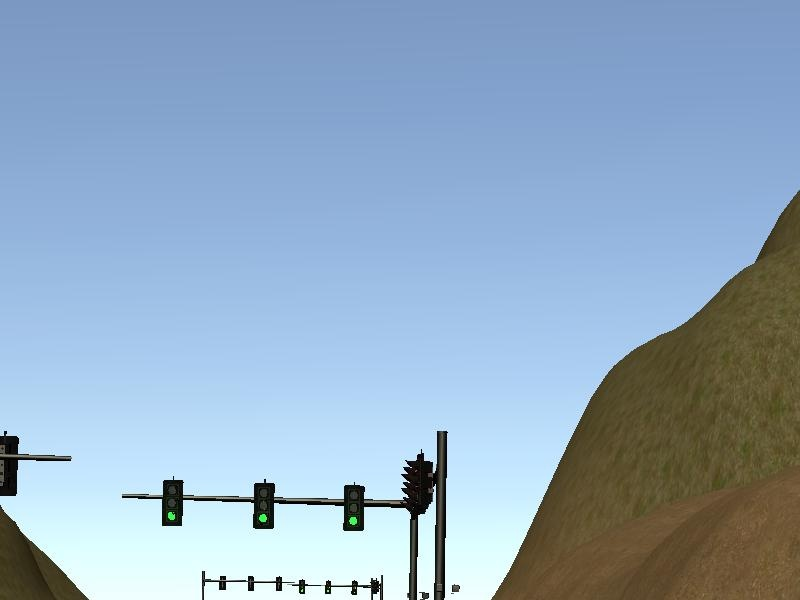green: (254, 481, 276, 529), (161, 479, 183, 526), (343, 485, 363, 532)
